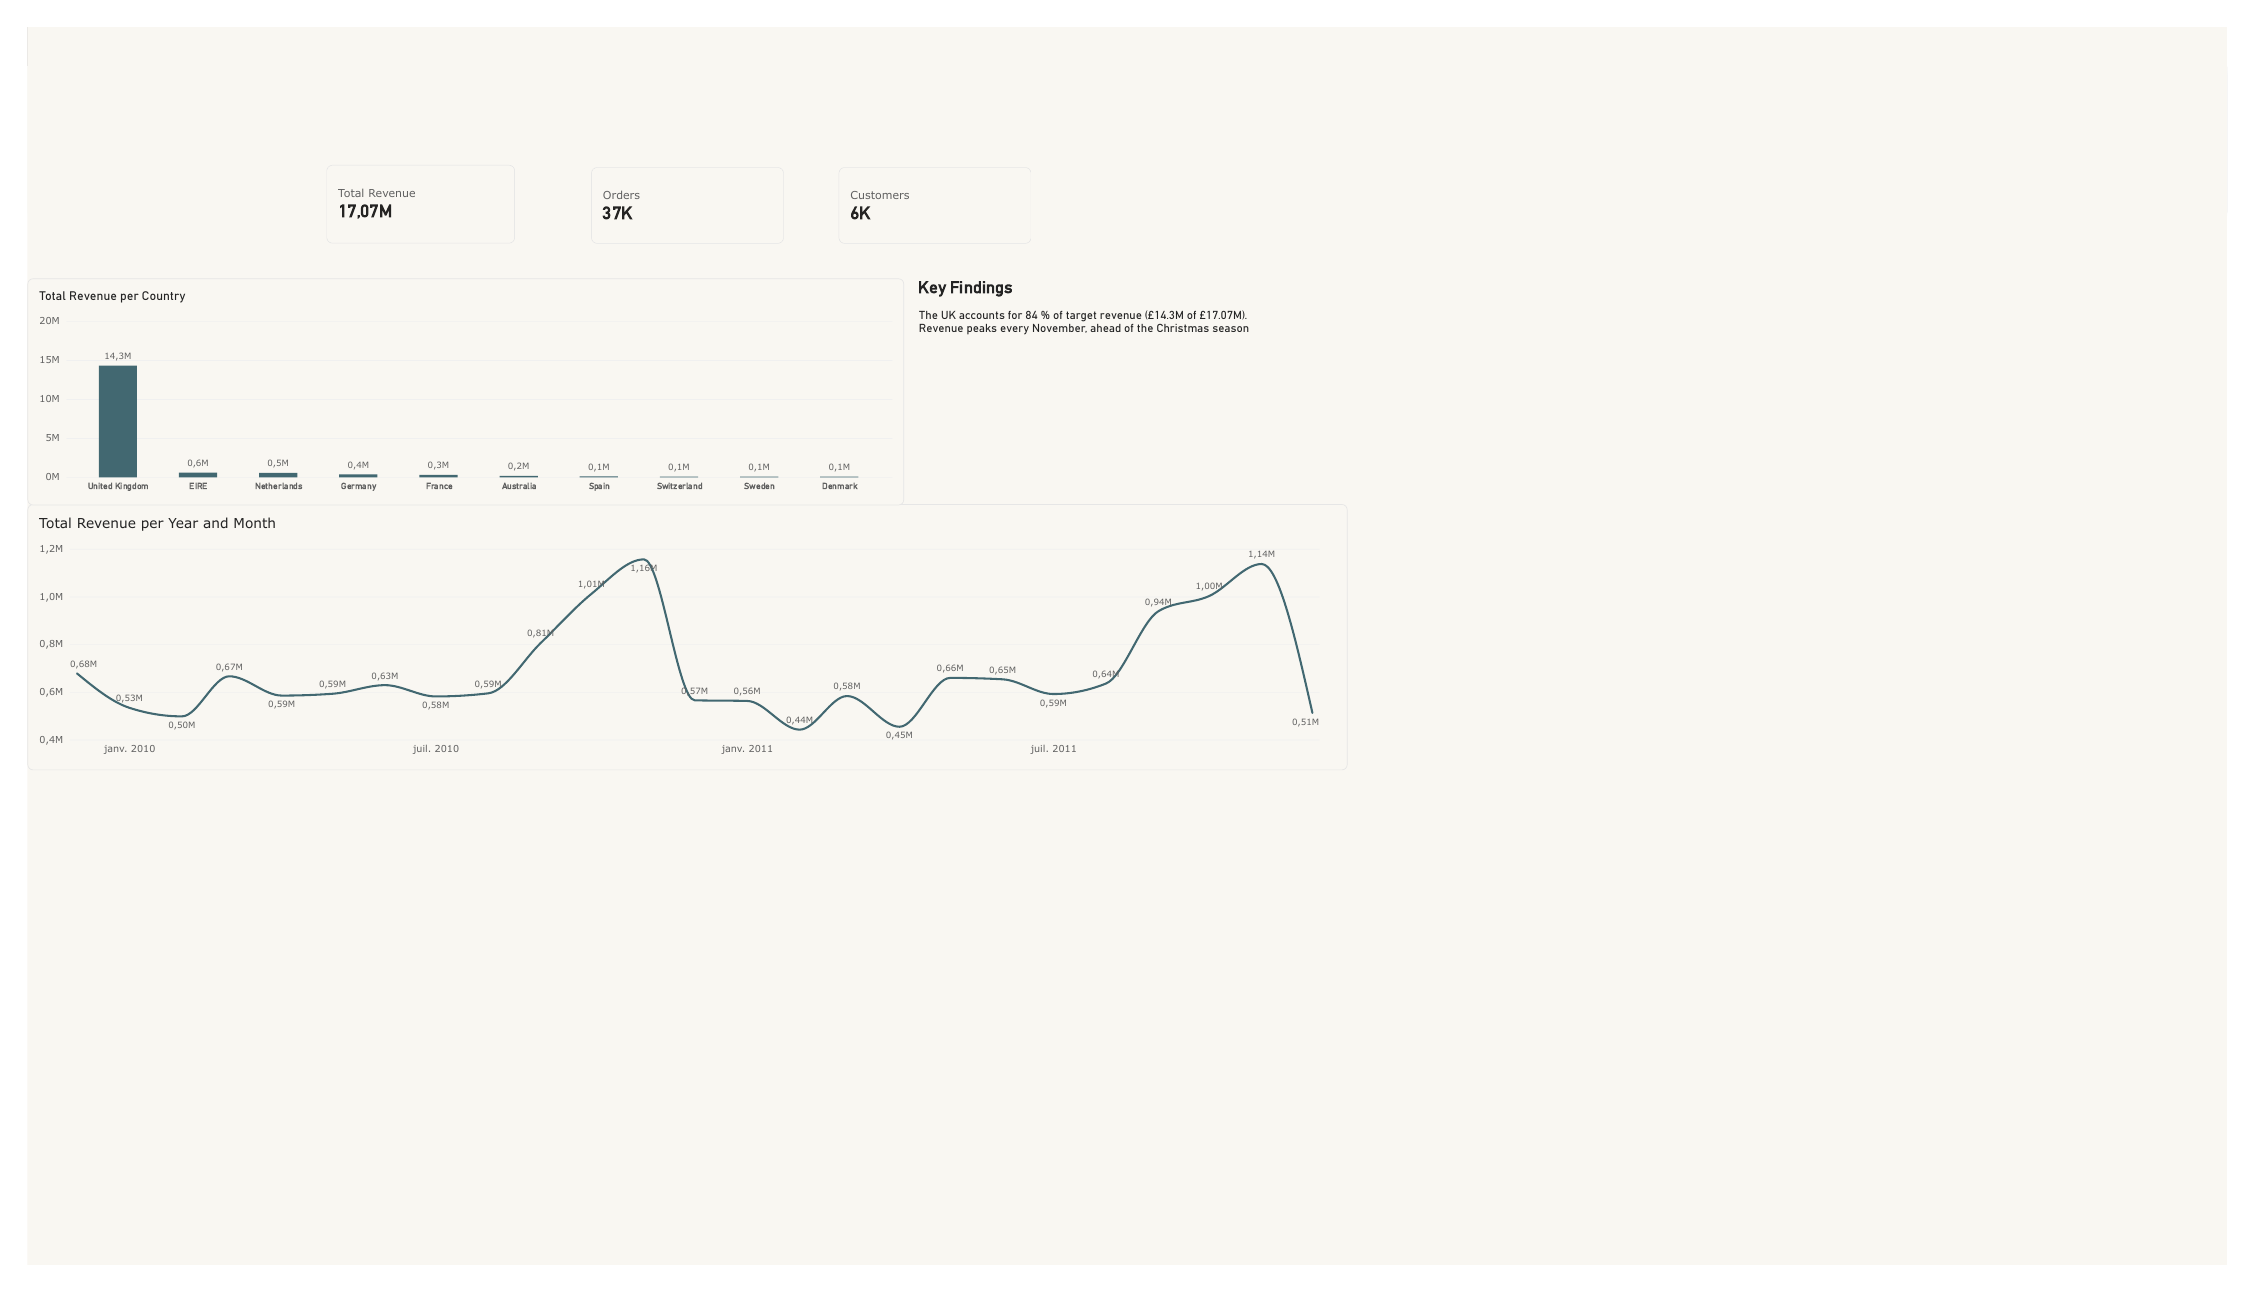

Layout of this report page (visuals, bound fields, positions):
{"tool":"powerbi","page":{"name":"Sales Overview","canvas":[1920,1080],"ordinal":2},"visuals":[{"type":"cardVisual","fields":{"Data":["FACT_SALES.Total Revenue"]},"box":[435.7,200,274.3,114.3],"z":0},{"type":"cardVisual","fields":{"Data":["FACT_SALES.Orders"]},"box":[820,202.9,280,111.4],"z":1000},{"type":"cardVisual","fields":{"Data":["FACT_SALES.Customers"]},"box":[1180,202.9,280,111.4],"z":2000},{"type":"lineChart","title":"Total Revenue by Year and Month","fields":{"Category":["FACT_SALES.INVOICE_DATE.Variation.Hiérarchie de dates.Année","FACT_SALES.INVOICE_DATE.Variation.Hiérarchie de dates.Mois"],"Y":["FACT_SALES.Total Revenue"]},"box":[0,693.3,1920,386.7],"z":4000},{"type":"columnChart","title":"Total Revenue by Country","fields":{"Category":["FACT_SALES.COUNTRY"],"Y":["FACT_SALES.Total Revenue"]},"box":[0,365,1275,330],"z":5000},{"type":"textbox","box":[1296.7,365,496.7,330],"z":5001},{"type":"textbox","box":[560,65,715,138.3],"z":5002}]}

Visuals, with their boxes in screenshot pixels (x1, y1, x2, y2), scaled from the page's 1920x1080 canvas onto the 2255x1293 screenshot:
cardVisual - FACT_SALES.Total Revenue: bbox=(512, 239, 834, 376)
cardVisual - FACT_SALES.Orders: bbox=(963, 243, 1292, 376)
cardVisual - FACT_SALES.Customers: bbox=(1386, 243, 1715, 376)
"Total Revenue by Year and Month" lineChart: bbox=(0, 830, 2254, 1292)
"Total Revenue by Country" columnChart: bbox=(0, 437, 1497, 832)
textbox: bbox=(1523, 437, 2106, 832)
textbox: bbox=(658, 78, 1497, 243)
